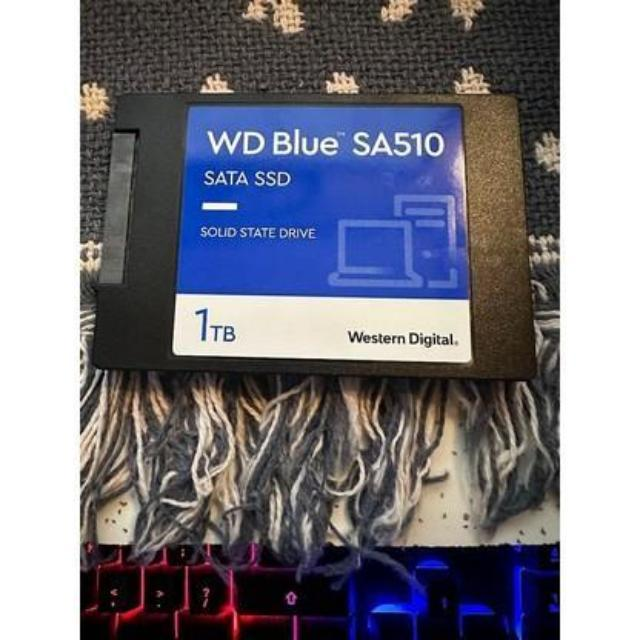DISK: (90, 83, 542, 389)
